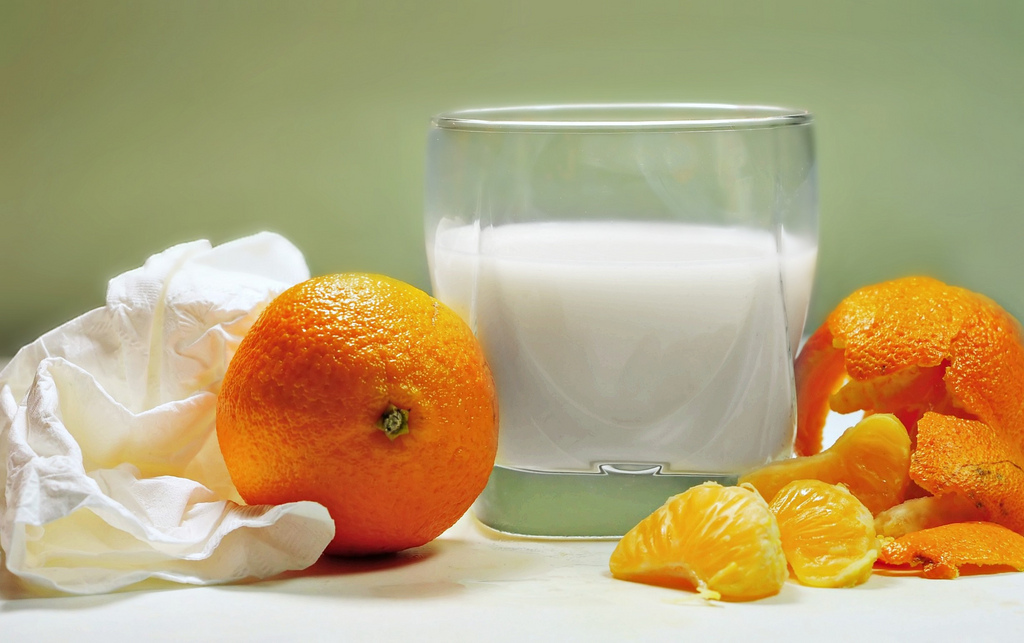glass of milk: (432, 103, 817, 510)
